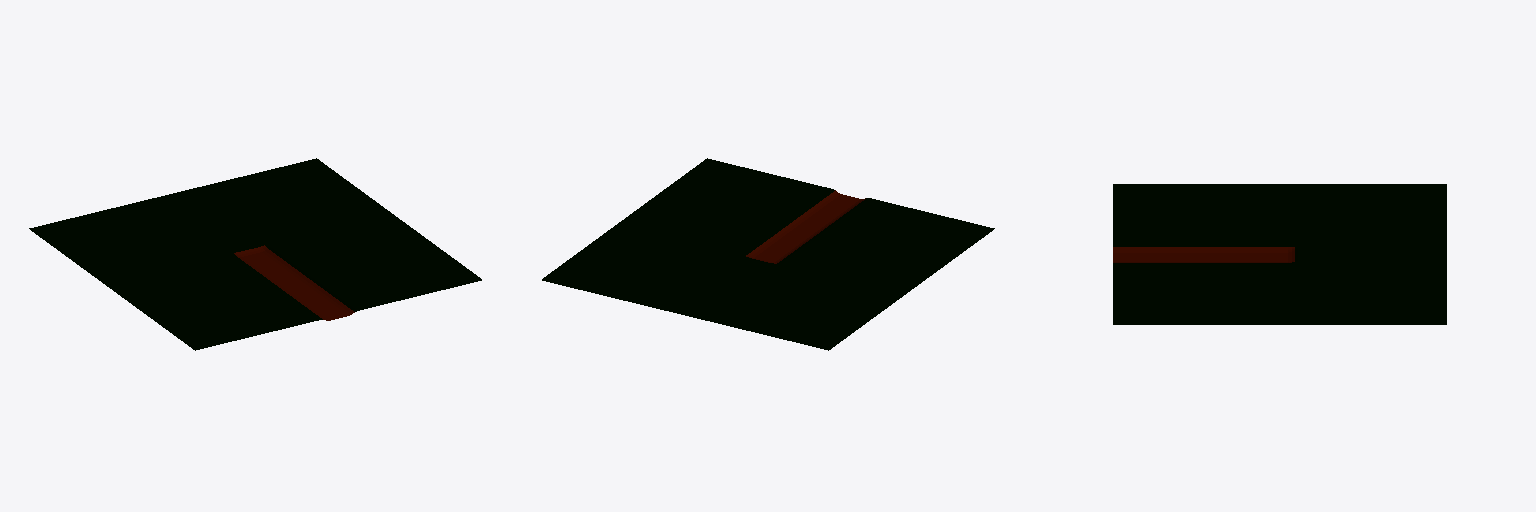
The model's file is Terrain_Part_Plane_12.obj.
The picture shows the model from 3 angles: view 1: azimuth 30°, elevation 25°; view 2: azimuth 150°, elevation 25°; view 3: azimuth 270°, elevation 25°; orthographic projection.
Visible parts, largest first — view 1: Terrain_Part_Plane_12_Plane.034; view 2: Terrain_Part_Plane_12_Plane.034; view 3: Terrain_Part_Plane_12_Plane.034.
Part boxes in pixels (bbox=[...]): Terrain_Part_Plane_12_Plane.034: bbox=[29, 158, 481, 350]; Terrain_Part_Plane_12_Plane.034: bbox=[542, 158, 994, 350]; Terrain_Part_Plane_12_Plane.034: bbox=[1113, 184, 1446, 324].
Bounding box in the file's own units: 20 × 0.2 × 20.